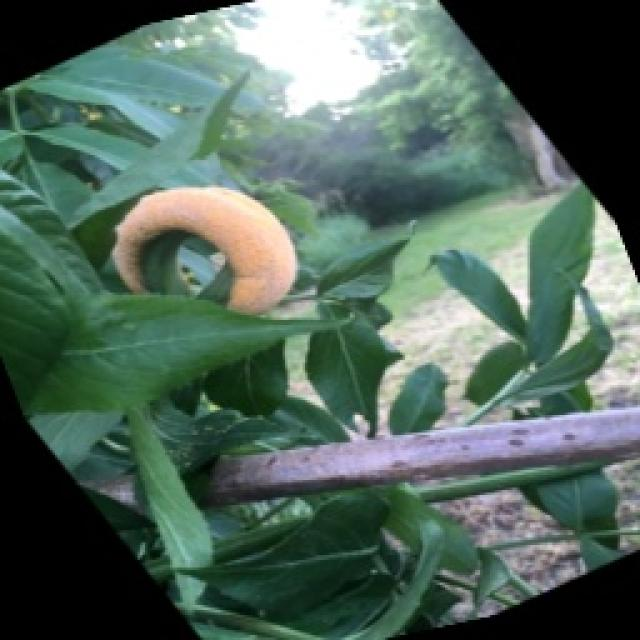Elderberry_rust: (108, 182, 298, 318)
